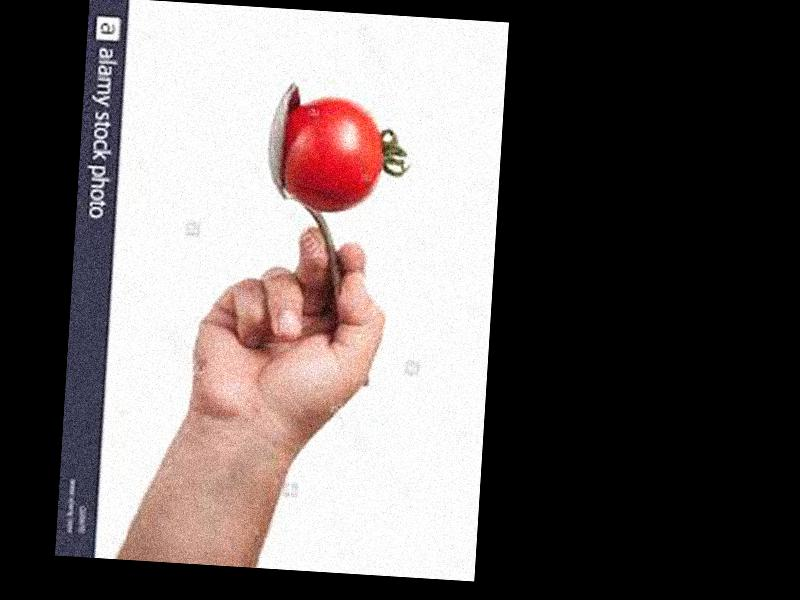Tomato: (282, 97, 387, 216)
